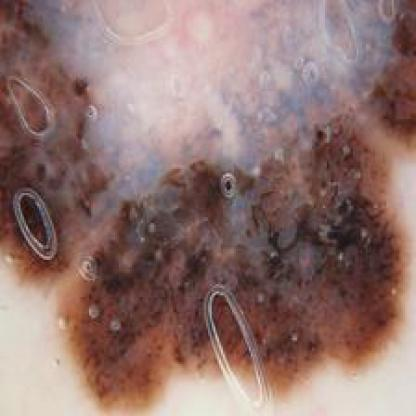malignant: (0, 0, 414, 396)
